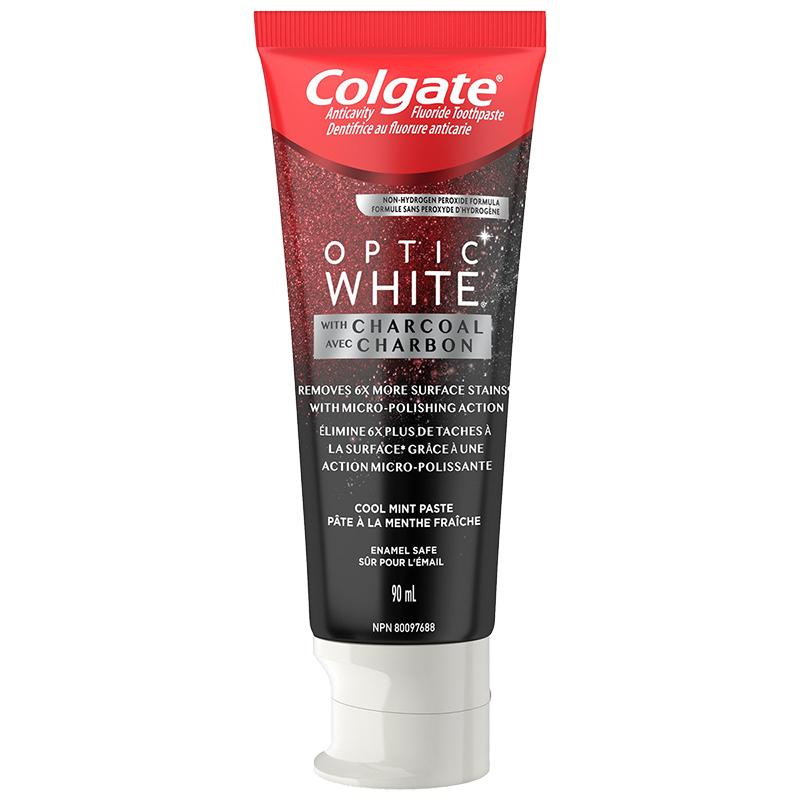toothpaste: (243, 4, 537, 794)
